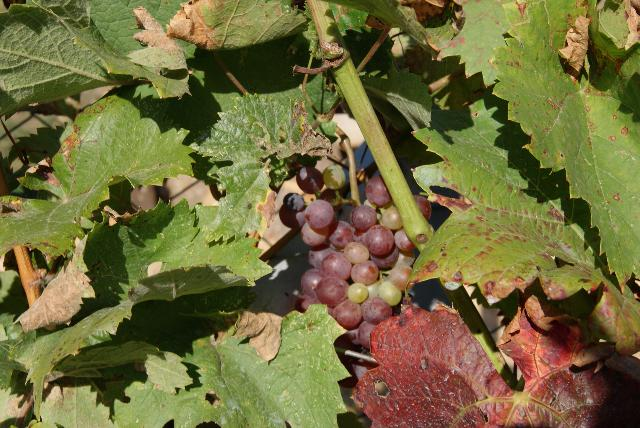grapes: (296, 176, 415, 349)
